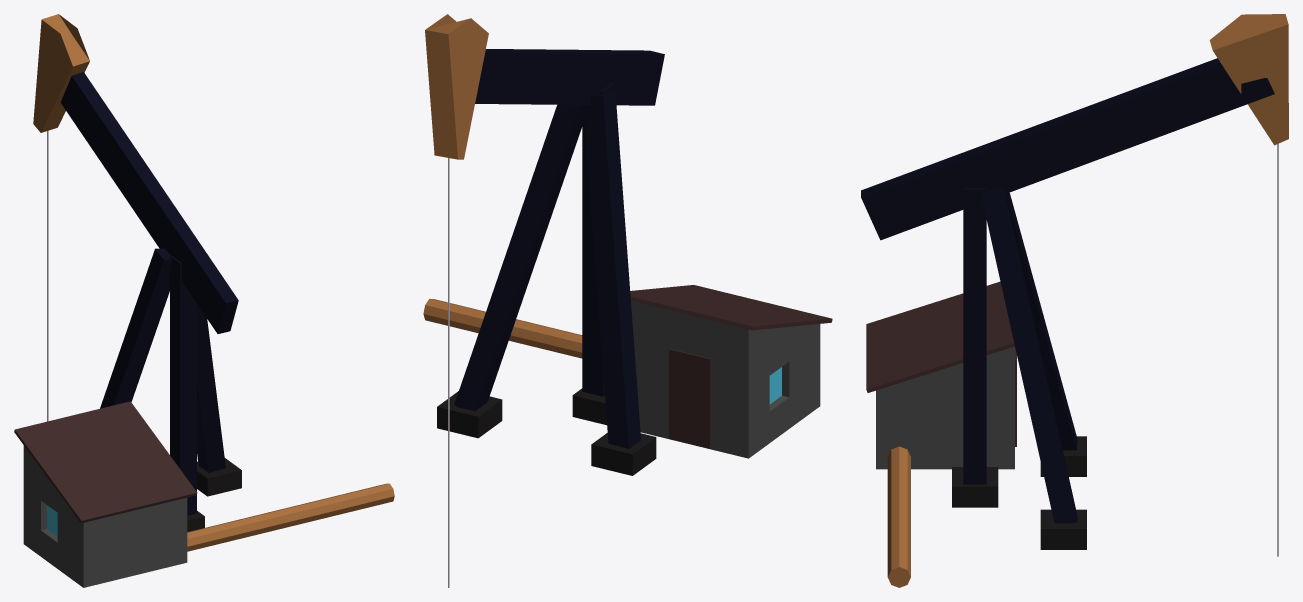
Rendered from oil_extractor.fbx.
3 views of the same model, side by side, from view 1: azimuth 30°, elevation 25°; view 2: azimuth 150°, elevation 25°; view 3: azimuth 270°, elevation 25° (orthographic). The views are drawn at different scales.
Parts seen in each view (by area): view 1: Cube.005, Cube.003, Cube.002, Cube.001, Cylinder.001, Cube.004, Cube, Cube.008, Cylinder; view 2: Cube.005, Cube.001, Cube, Cube.003, Cube.004, Cube.006, Cube.002, Cylinder.001, Cube.007, Cube.008, Cube.009, Cylinder; view 3: Cube.003, Cube.005, Cube, Cube.002, Cube.004, Cylinder.001, Cube.001, Cube.008, Cube.009, Cylinder, Cube.007.
Boxes of the visible parts, left/top/right/bottom form: Cube.005: left=14, top=401, right=197, bottom=587; Cube.003: left=60, top=72, right=238, bottom=333; Cube.002: left=170, top=255, right=196, bottom=515; Cube.001: left=100, top=248, right=171, bottom=408; Cylinder.001: left=187, top=483, right=394, bottom=551; Cube.004: left=33, top=14, right=89, bottom=132; Cube: left=197, top=304, right=225, bottom=472; Cube.008: left=197, top=458, right=241, bottom=496; Cylinder: left=47, top=130, right=48, bottom=421; Cube.005: left=630, top=285, right=832, bottom=458; Cube.001: left=583, top=92, right=640, bottom=448; Cube: left=454, top=104, right=584, bottom=410; Cube.003: left=475, top=49, right=664, bottom=105; Cube.004: left=425, top=14, right=488, bottom=159; Cube.006: left=669, top=348, right=710, bottom=448; Cube.002: left=582, top=83, right=614, bottom=396; Cylinder.001: left=423, top=298, right=582, bottom=358; Cube.007: left=591, top=433, right=656, bottom=475; Cube.008: left=437, top=391, right=502, bottom=438; Cube.009: left=572, top=388, right=606, bottom=425; Cylinder: left=448, top=158, right=449, bottom=587; Cube.003: left=861, top=58, right=1274, bottom=240; Cube.005: left=866, top=281, right=1014, bottom=469; Cube: left=981, top=187, right=1077, bottom=523; Cube.002: left=963, top=188, right=986, bottom=484; Cube.004: left=1209, top=14, right=1288, bottom=145; Cylinder.001: left=887, top=446, right=910, bottom=587; Cube.001: left=1005, top=192, right=1077, bottom=450; Cube.008: left=1040, top=509, right=1086, bottom=549; Cube.009: left=952, top=467, right=998, bottom=507; Cylinder: left=1277, top=143, right=1278, bottom=556; Cube.007: left=1040, top=436, right=1086, bottom=476.
Bounding box in the file's own units: 187 × 258 × 185.
